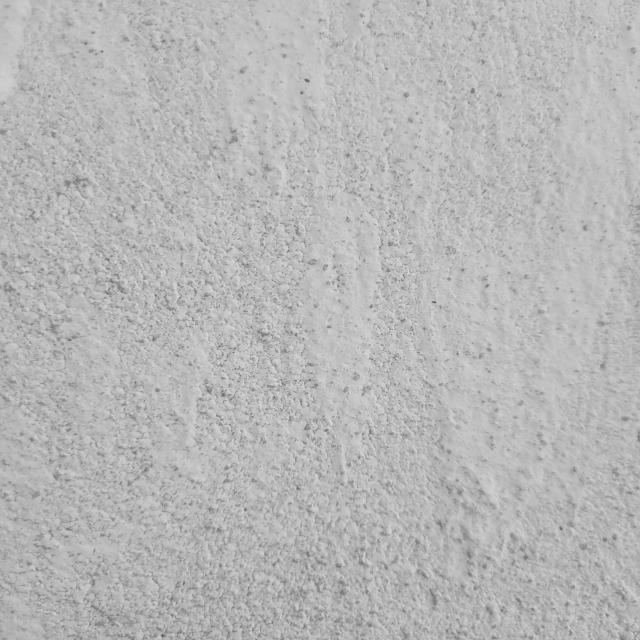rough and patchy surface: (14, 9, 634, 634)
